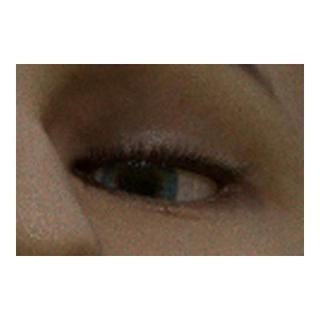pupil: (120, 166, 156, 202)
